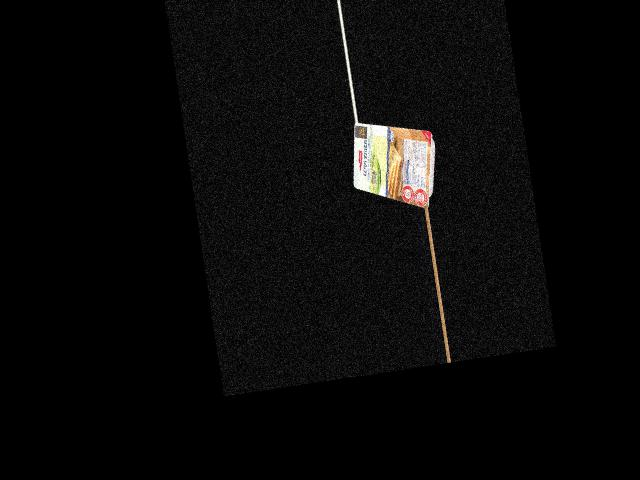cheese: (346, 120, 440, 203)
